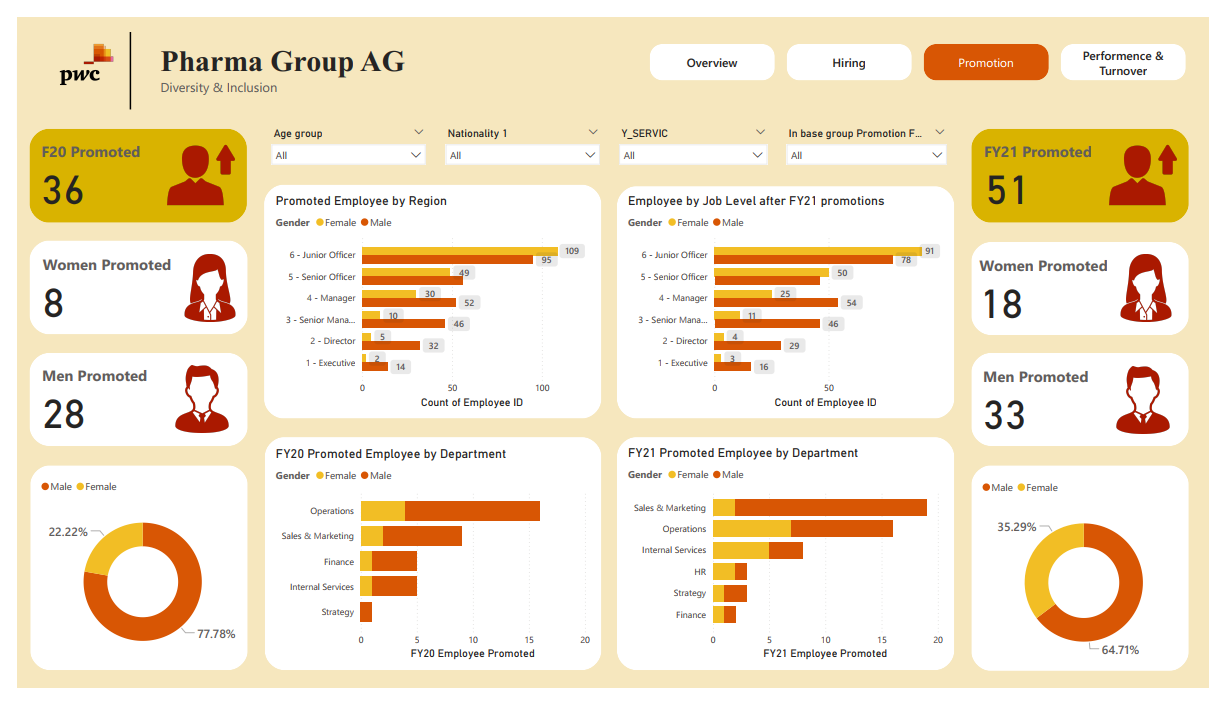

What the dashboard file says about the page in this screenshot:
{"tool":"powerbi","page":{"name":"Promotion","canvas":[1600,900],"ordinal":2},"visuals":[{"type":"shape","box":[1281.7,601.3,292.4,275.9],"z":0},{"type":"shape","box":[17.7,601.3,292.4,274.7],"z":1000},{"type":"shape","box":[805.8,563,453.2,313.3],"z":2000},{"type":"shape","box":[332.5,224.4,452.3,313.7],"z":3000},{"type":"shape","box":[332.9,563,452,313.3],"z":4000},{"type":"shape","box":[805.9,225.6,453.5,312.5],"z":5000},{"type":"image","box":[33.8,8.8,120,106.2],"z":6000},{"type":"textbox","title":"Pharma Group AG","box":[188.4,34.9,345.3,70.9],"z":7000},{"type":"shape","box":[102.3,18.6,101.2,104.7],"z":8000},{"type":"donutChart","title":"Promoted Employees by Gender","fields":{"Y":["_Measures Table.Emplyee Promoted"],"Category":["Pharma Group AG.Gender"]},"box":[1291.1,609.8,283.9,268],"z":9000},{"type":"shape","box":[17.4,450.2,292.4,125.3],"z":10000},{"type":"shape","box":[17.4,299.3,292.4,125.3],"z":11000},{"type":"shape","box":[17.4,148.5,292,126.5],"z":12000},{"type":"shape","box":[1282.1,450.2,292.4,125.3],"z":13000},{"type":"shape","box":[1282.1,300.5,292.4,125.3],"z":14000},{"type":"shape","box":[1282.1,148.5,292.4,126.5],"z":15000},{"type":"cardVisual","fields":{"Data":["_Measures Table.Female Promoted"]},"box":[1275.6,301.1,303.6,124.6],"z":16000},{"type":"cardVisual","fields":{"Data":["_Measures Table.Male Promoted"]},"box":[1280.9,449.7,293,126],"z":17000},{"type":"cardVisual","fields":{"Data":["_Measures Table.Emplyee Promoted"]},"box":[1281.6,148,292.5,126.9],"z":18000},{"type":"barChart","title":"FY20 Promoted Employee  by Department","fields":{"Category":["Pharma Group AG.Department @01.07.2020"],"Series":["Pharma Group AG.Gender"],"Y":["_Measures Table.FY20 Employee Promoted"]},"box":[343.4,574.6,431.2,292.5],"z":19000},{"type":"clusteredBarChart","title":"Promoted Employee by Region","fields":{"Category":["Pharma Group AG.Job Level after FY20 promotions"],"Series":["Pharma Group AG.Gender"],"Y":["CountNonNull(Pharma Group AG.Employee ID)"]},"box":[343,234.9,431.1,293.7],"z":20000},{"type":"slicer","fields":{"Values":["Pharma Group AG.In base group for Promotion FY21"]},"box":[1024.4,142.1,234.9,69.3],"z":21000},{"type":"barChart","title":"FY21 Promoted Employee  by Department","fields":{"Category":["Pharma Group AG.Department @01.07.2020"],"Series":["Pharma Group AG.Gender"],"Y":["_Measures Table.Employee Promoted"]},"box":[816.4,574.4,432.3,292.5],"z":22000},{"type":"cardVisual","fields":{"Data":["_Measures Table.FY20 Female Promoted"]},"box":[18.2,299.8,303.6,124.6],"z":23000},{"type":"cardVisual","fields":{"Data":["_Measures Table.FY20 Male Promoted"]},"box":[16.8,449.5,293,126],"z":24000},{"type":"cardVisual","fields":{"Data":["_Measures Table.F20 Employee Promoted"]},"box":[16.4,148,292.5,125.7],"z":25000},{"type":"donutChart","title":"Promoted Employees by Gender","fields":{"Y":["_Measures Table.FY20 Employee Promoted"],"Category":["Pharma Group AG.Gender"]},"box":[27.3,608.7,283.9,268],"z":26000},{"type":"clusteredBarChart","title":"Employee by Job Level after FY21 promotions","fields":{"Category":["Pharma Group AG.Job Level after FY21 promotions"],"Series":["Pharma Group AG.Gender"],"Y":["CountNonNull(Pharma Group AG.Employee ID)"]},"box":[816.4,234.9,431.1,293.7],"z":27000},{"type":"slicer","fields":{"Values":["Pharma Group AG.Nationality 1"]},"box":[565.8,142.1,226.7,69.3],"z":28000},{"type":"slicer","fields":{"Values":["Backing 1.Y_SERVIC"]},"box":[799.2,142.1,218.5,69.3],"z":29000},{"type":"slicer","fields":{"Values":["Pharma Group AG.Age group"]},"box":[332.5,142.1,226.7,69.3],"z":30000},{"type":"pageNavigator","box":[849.6,34.8,723.6,49.6],"z":31000}]}

Visuals, with their boxes in screenshot pixels (x1, y1, x2, y2), scaled from the page's 1600x900 canvas onto the 1226x706 screenshot:
shape: Rect(982, 472, 1206, 688)
shape: Rect(14, 472, 238, 687)
shape: Rect(617, 442, 965, 687)
shape: Rect(255, 176, 601, 422)
shape: Rect(255, 442, 601, 687)
shape: Rect(618, 177, 965, 422)
image: Rect(26, 7, 118, 90)
"Pharma Group AG" textbox: Rect(144, 27, 409, 83)
shape: Rect(78, 15, 156, 97)
"Promoted Employees by Gender" donutChart: Rect(989, 478, 1207, 689)
shape: Rect(13, 353, 237, 451)
shape: Rect(13, 235, 237, 333)
shape: Rect(13, 116, 237, 216)
shape: Rect(982, 353, 1206, 451)
shape: Rect(982, 236, 1206, 334)
shape: Rect(982, 116, 1206, 216)
cardVisual - _Measures Table.Female Promoted: Rect(977, 236, 1210, 334)
cardVisual - _Measures Table.Male Promoted: Rect(981, 353, 1206, 452)
cardVisual - _Measures Table.Emplyee Promoted: Rect(982, 116, 1206, 216)
"FY20 Promoted Employee  by Department" barChart: Rect(263, 451, 594, 680)
"Promoted Employee by Region" clusteredBarChart: Rect(263, 184, 593, 415)
slicer - Pharma Group AG.In base group for Promotion FY21: Rect(785, 111, 965, 166)
"FY21 Promoted Employee  by Department" barChart: Rect(626, 451, 957, 680)
cardVisual - _Measures Table.FY20 Female Promoted: Rect(14, 235, 247, 333)
cardVisual - _Measures Table.FY20 Male Promoted: Rect(13, 353, 237, 451)
cardVisual - _Measures Table.F20 Employee Promoted: Rect(13, 116, 237, 215)
"Promoted Employees by Gender" donutChart: Rect(21, 477, 238, 688)
"Employee by Job Level after FY21 promotions" clusteredBarChart: Rect(626, 184, 956, 415)
slicer - Pharma Group AG.Nationality 1: Rect(434, 111, 607, 166)
slicer - Backing 1.Y_SERVIC: Rect(612, 111, 780, 166)
slicer - Pharma Group AG.Age group: Rect(255, 111, 428, 166)
pageNavigator: Rect(651, 27, 1205, 66)
